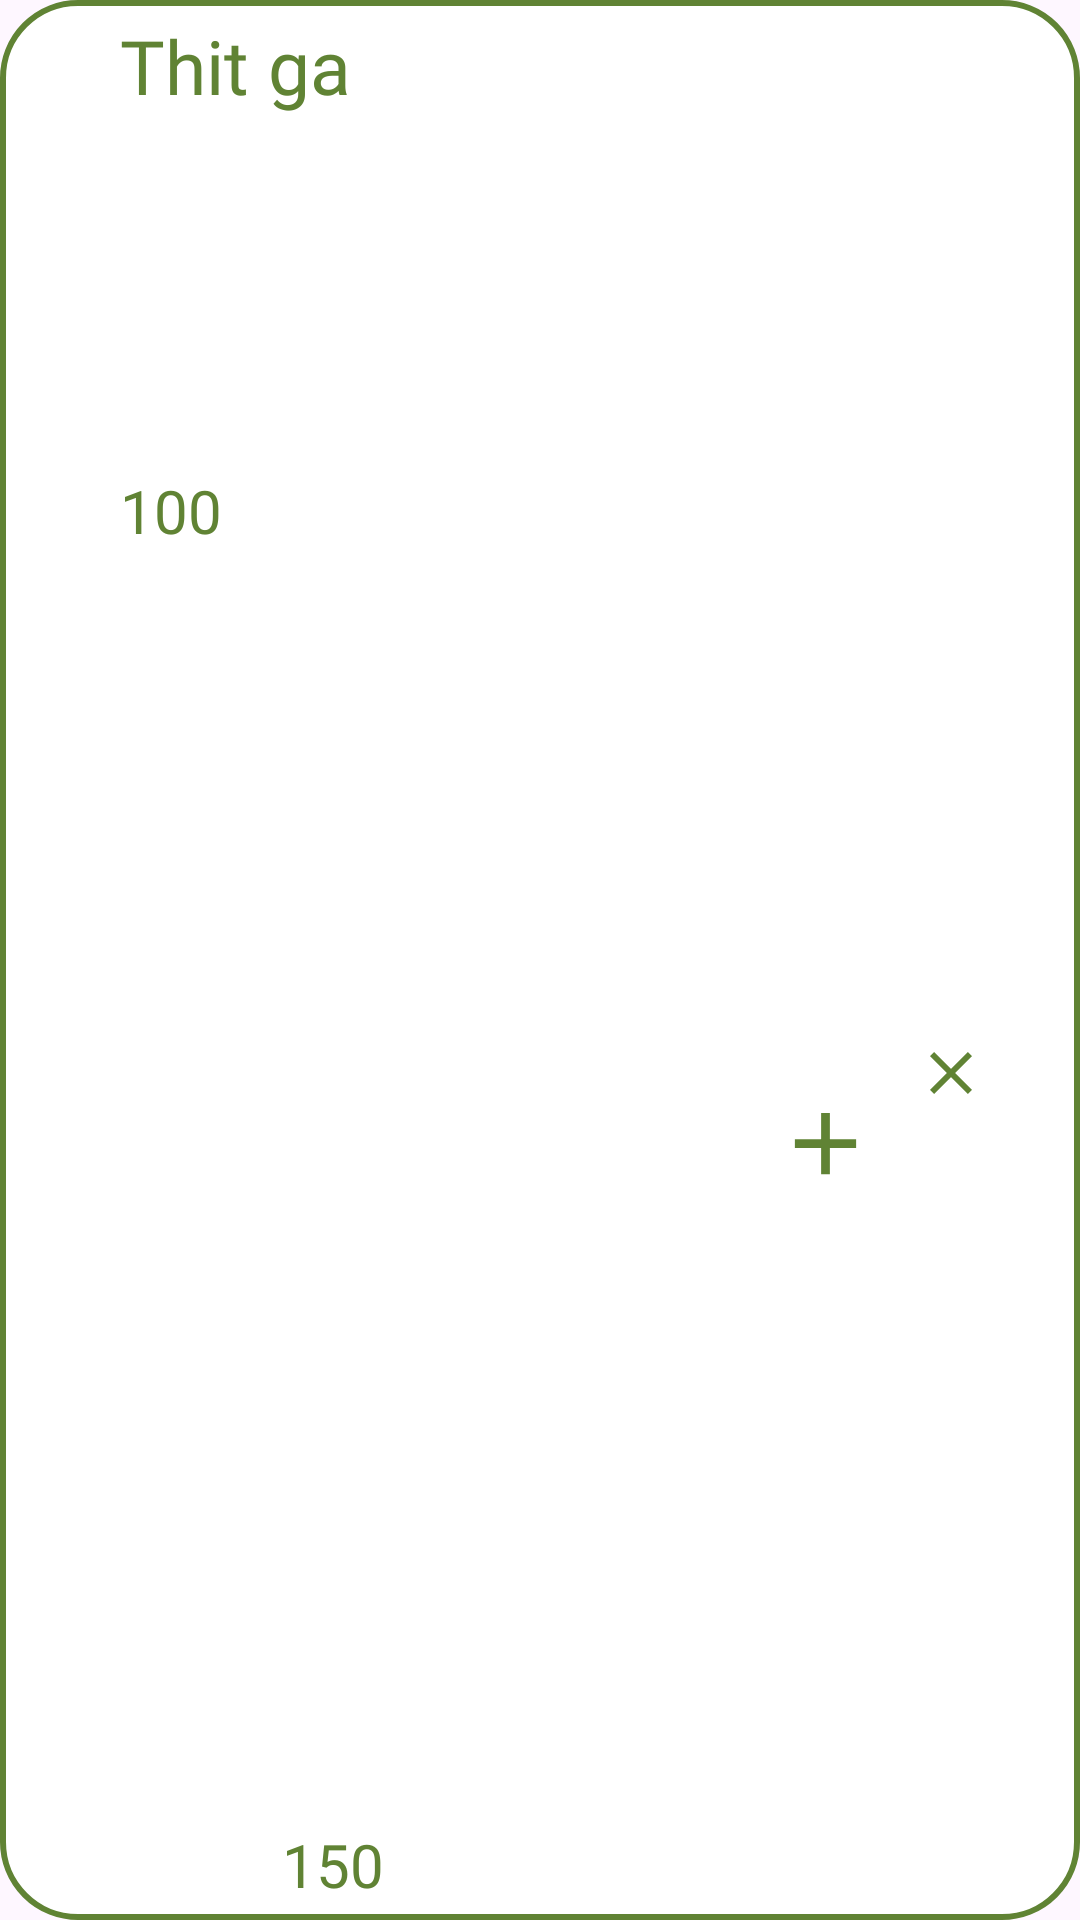

Screen size 1080px x 1920px. Icon name, then its box in pixels as bbox=[x1, y1, x2, y2]:
add: bbox=[794, 1113, 857, 1175]
cancel: bbox=[930, 1052, 972, 1094]
